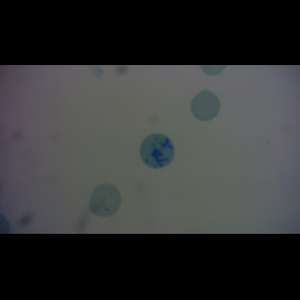aggregate reticulocyte: (139, 133, 174, 169)
punctate reticulocyte: (88, 183, 122, 218), (190, 89, 221, 123)
